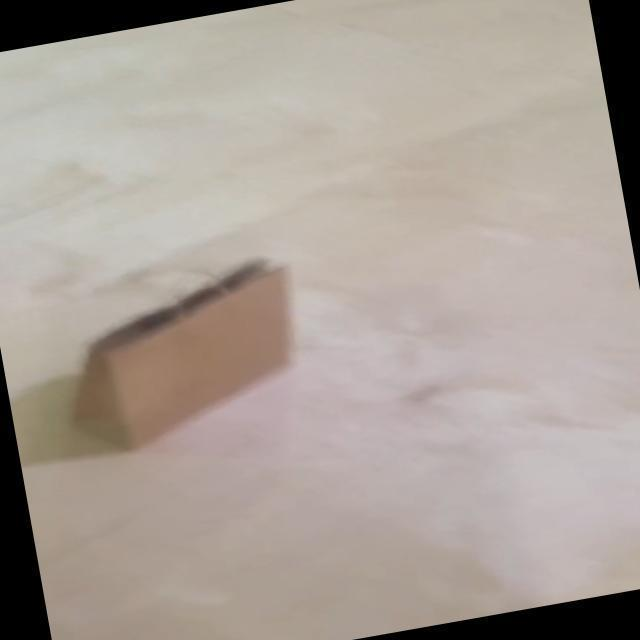Paper_Bag: (47, 251, 316, 462)
